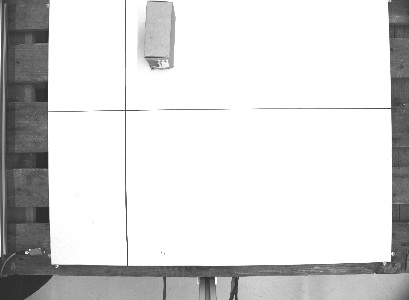b6: (138, 1, 181, 71)
